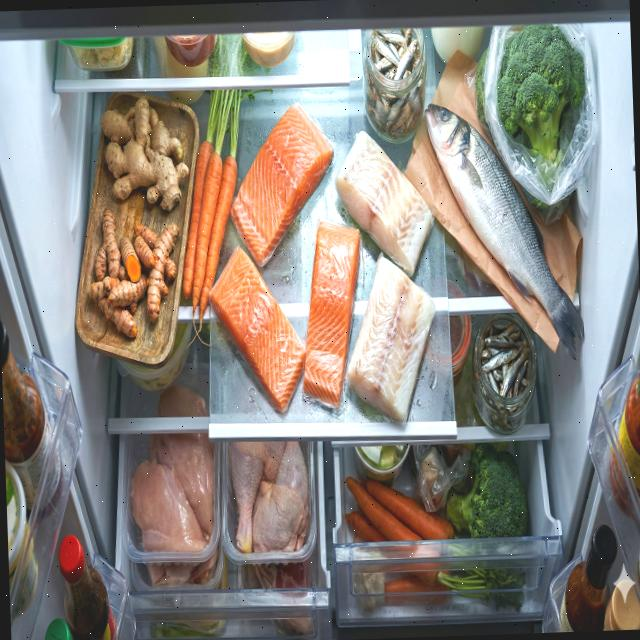anchovies: (362, 28, 424, 140), (478, 316, 534, 432)
brocolli: (495, 21, 587, 166), (444, 440, 528, 540)
carrot: (343, 472, 457, 607), (177, 138, 242, 320)
chicken: (127, 382, 218, 553), (228, 439, 310, 555)
fish: (424, 98, 586, 367), (226, 102, 338, 268), (208, 243, 306, 414), (341, 254, 438, 422), (333, 126, 434, 279), (296, 220, 366, 408)
ginger: (98, 92, 190, 214)
turmeric: (87, 205, 182, 338)
